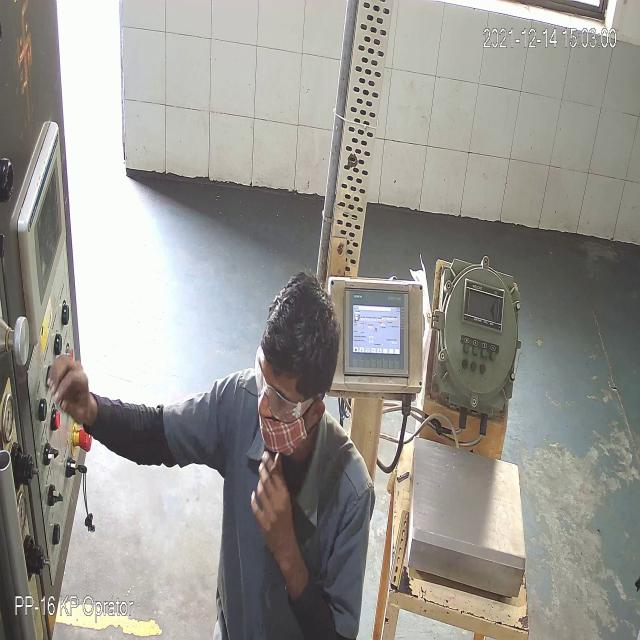glasses: (252, 364, 314, 426)
